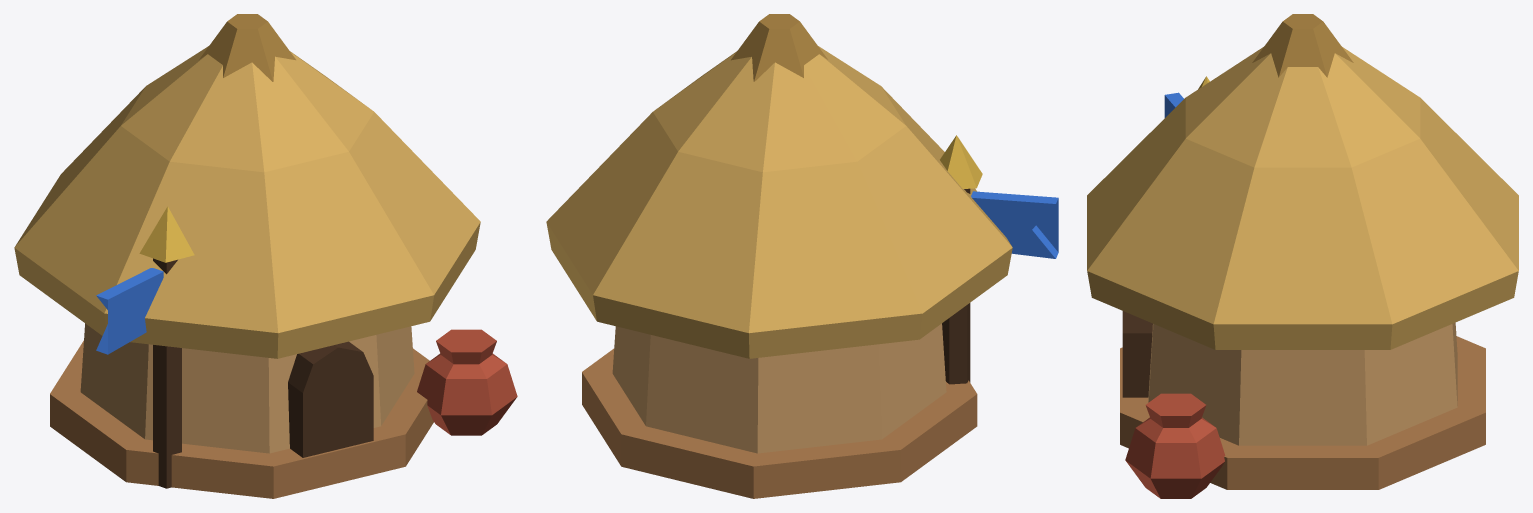
Rendered from house_0_a.glb.
3 renders of one model, left to right at view 1: azimuth 30°, elevation 25°; view 2: azimuth 150°, elevation 25°; view 3: azimuth 270°, elevation 25°, orthographic.
Parts seen in each view (by area): view 1: house_0_a; view 2: house_0_a; view 3: house_0_a.
Boxes of the visible parts, x1,y1,x2,y2 form: house_0_a: [14, 14, 517, 498]; house_0_a: [546, 14, 1058, 498]; house_0_a: [1087, 14, 1518, 498].
Size of the model in its own units: 0.1839 by 0.17 by 0.17.
